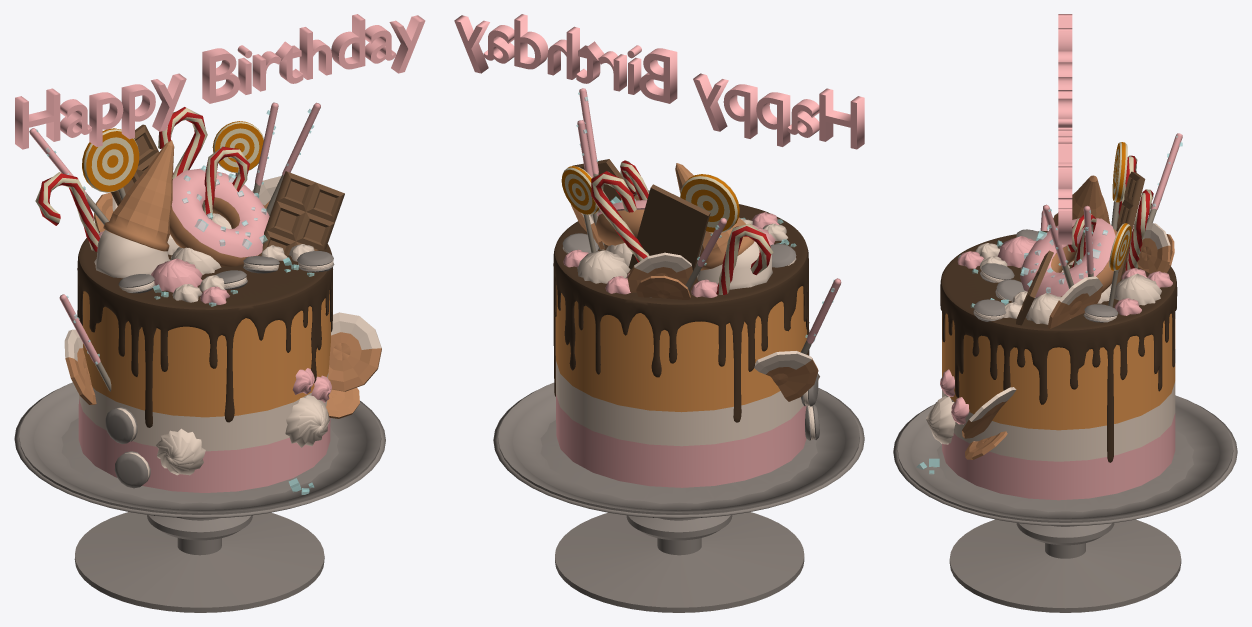
File: cake.glb
The picture shows the model from 3 angles, left to right: view 1: azimuth 30°, elevation 25°; view 2: azimuth 150°, elevation 25°; view 3: azimuth 270°, elevation 25°; orthographic projection. The views are drawn at different scales.
Visible parts, largest first — view 1: pCylinder19, pCylinder1, pCylinder3, Text, pCube38, pCylinder18, pCube54, pCylinder30, pCylinder28, pCylinder25, palepink18, palepink17 (+17 smaller); view 2: pCylinder19, pCylinder1, Text, pCylinder3, pCube70, pCylinder18, pCylinder28, pCylinder35, pCylinder27, pCylinder25, pCylinder33, pCylinder29 (+8 smaller); view 3: pCylinder19, pCylinder1, pCylinder3, pCube38, Text, pCylinder32, pCylinder33, pCylinder18, palepink12, pCylinder30, pCube70, pCylinder27 (+15 smaller).
Part boxes in pixels (<box>): pCylinder19: <box>14,382,385,612</box>; pCylinder1: <box>78,290,330,492</box>; pCylinder3: <box>77,238,332,427</box>; Text: <box>15,14,425,149</box>; pCube38: <box>169,165,269,266</box>; pCylinder18: <box>94,140,174,278</box>; pCube54: <box>258,171,344,256</box>; pCylinder30: <box>328,312,381,391</box>; pCylinder28: <box>82,128,139,200</box>; pCylinder25: <box>35,172,99,251</box>; palepink18: <box>156,428,205,475</box>; palepink17: <box>285,395,329,447</box>; pCylinder19: <box>493,382,864,612</box>; pCylinder1: <box>555,285,807,487</box>; Text: <box>454,14,864,149</box>; pCylinder3: <box>553,204,809,422</box>; pCube70: <box>629,184,710,270</box>; pCylinder18: <box>675,163,772,289</box>; pCylinder28: <box>680,174,739,264</box>; pCylinder35: <box>754,351,818,401</box>; pCylinder27: <box>591,171,649,262</box>; pCylinder25: <box>716,223,773,295</box>; pCylinder33: <box>627,252,692,292</box>; pCylinder29: <box>561,166,598,252</box>; pCylinder19: <box>893,395,1237,612</box>; pCylinder1: <box>942,313,1175,500</box>; pCylinder3: <box>940,231,1177,462</box>; pCube38: <box>1020,218,1121,297</box>; Text: <box>1058,14,1072,244</box>; pCylinder32: <box>1047,276,1102,328</box>; pCylinder33: <box>1125,223,1170,273</box>; pCylinder18: <box>1049,175,1110,264</box>; palepink12: <box>1114,273,1161,305</box>; pCylinder30: <box>962,387,1016,438</box>; pCube70: <box>1116,171,1145,285</box>; pCylinder27: <box>1125,189,1153,270</box>.
Size of the model in its own units: 0.2262 by 0.2709 by 0.1807.
